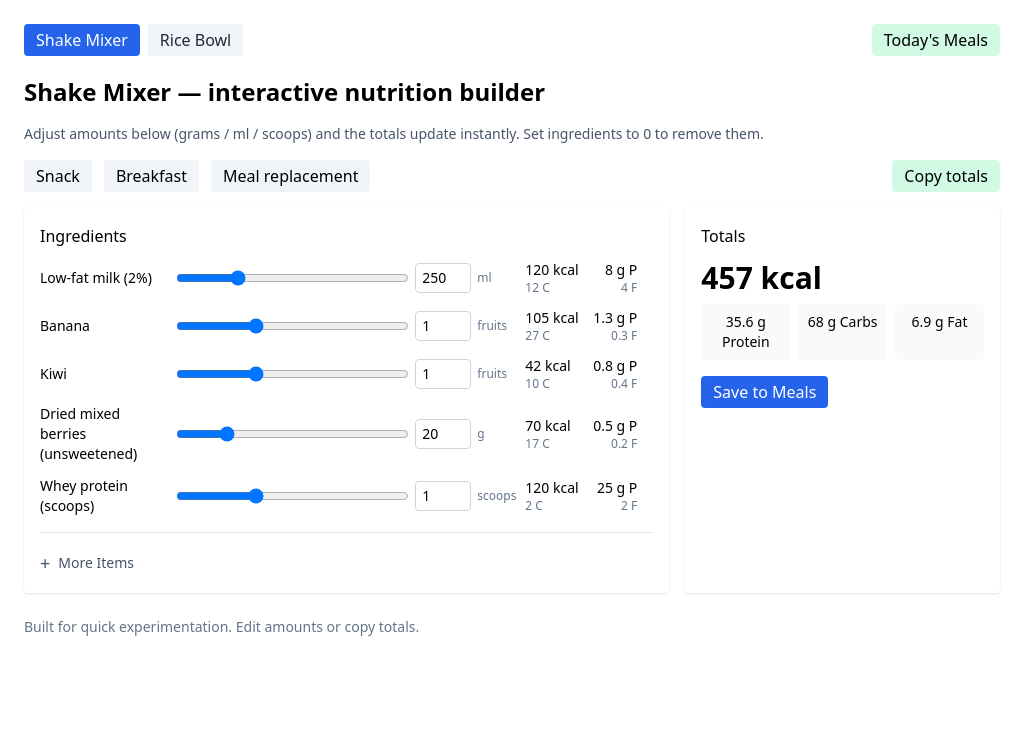
Test: Shake Mixer App › Quick Set Presets › presets keep peanut butter at 0 in More Items
Click the button "Breakfast". click: [152, 176]
box: [104,160,199,192]
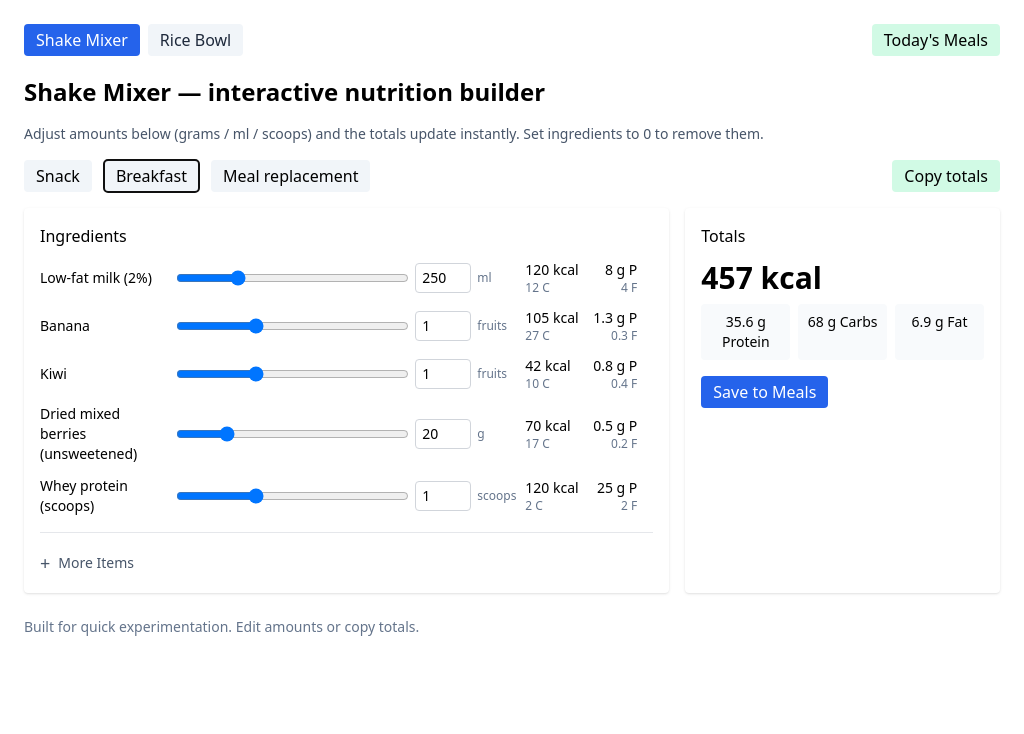
Click the button "+ More Items". click: [87, 563]
box: [40,549,134,577]
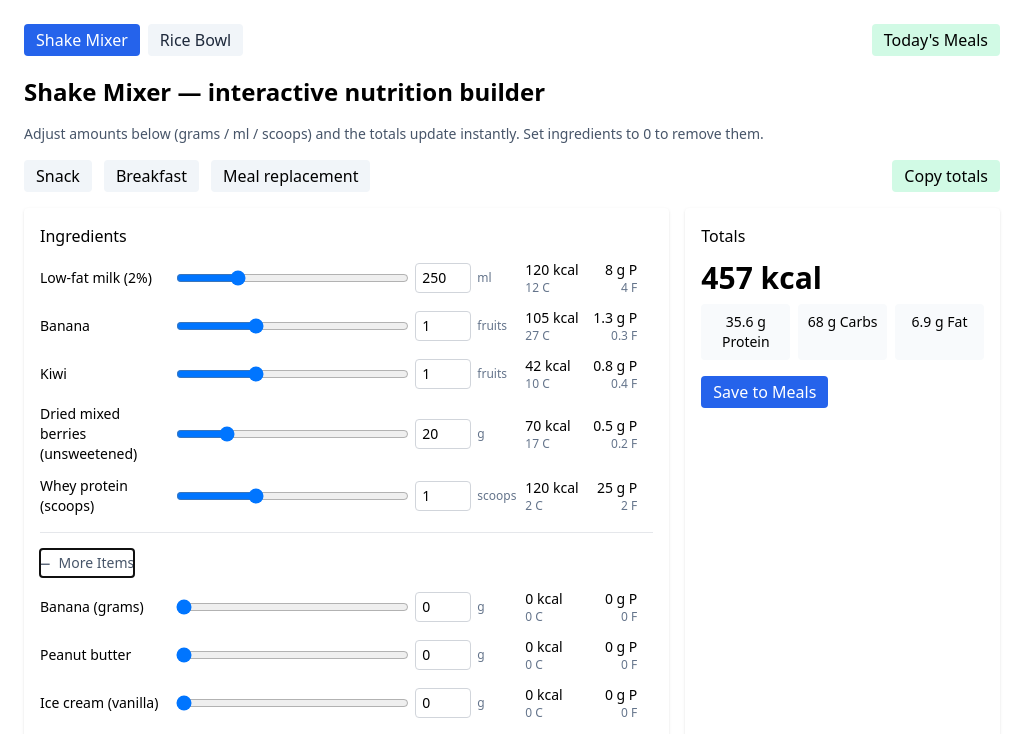
Now the number field named "Peanut butter value" holds "0", box [415,640,471,670]
